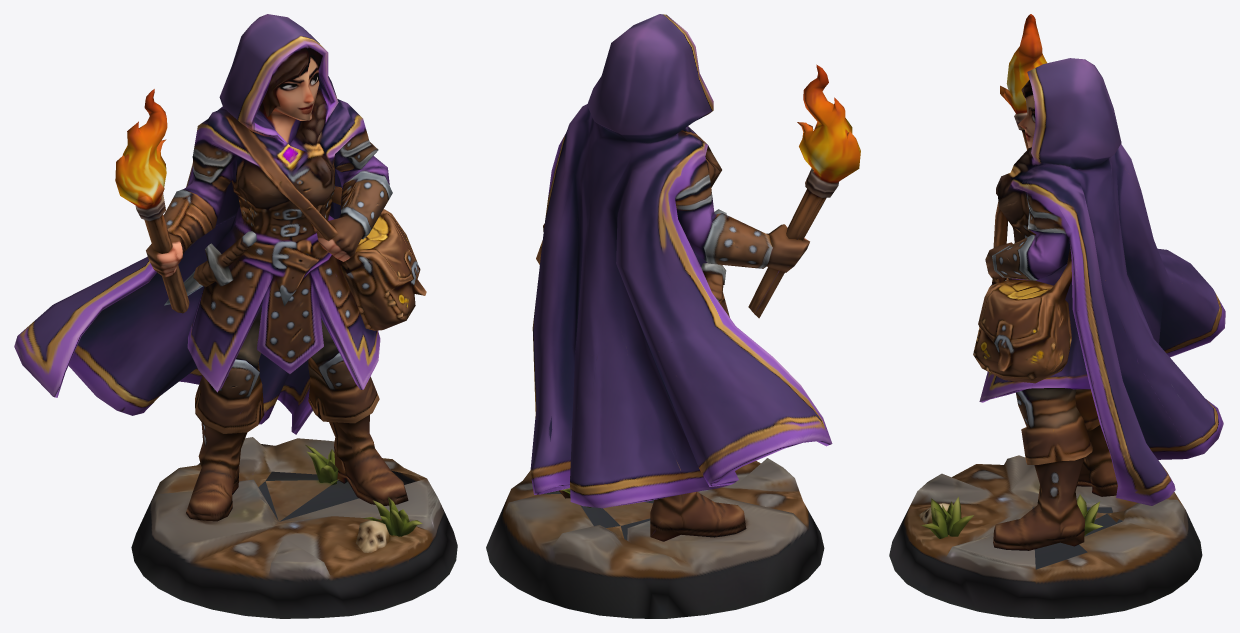
The model's file is hero2.glb.
3 views of the same model, side by side, from view 1: azimuth 30°, elevation 25°; view 2: azimuth 150°, elevation 25°; view 3: azimuth 270°, elevation 25° (orthographic). The views are drawn at different scales.
Parts seen in each view (by area): view 1: geometry_0; view 2: geometry_0; view 3: geometry_0.
Boxes of the visible parts, x1,y1,x2,y2 form: geometry_0: (14,14,457,618); geometry_0: (486,14,860,618); geometry_0: (889,14,1225,618).
Size of the model in its own units: 0.6836 by 0.9536 by 0.5898.
Materials: 1 (1 with a texture image).
